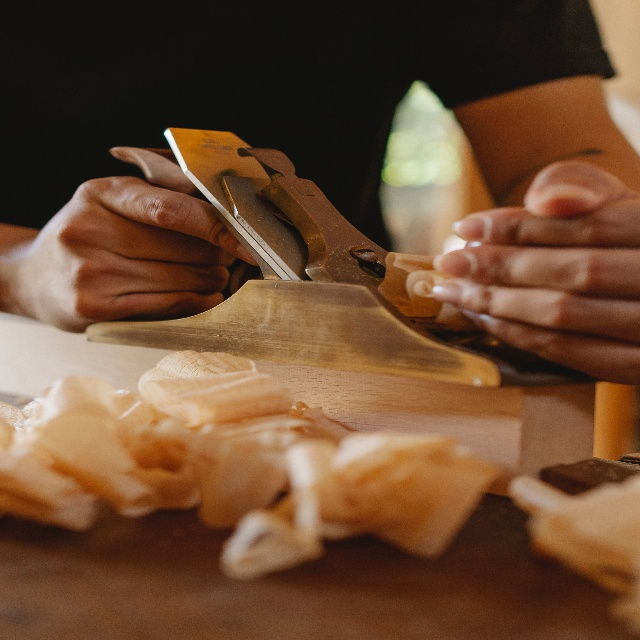Sin_guantes: (430, 158, 640, 385), (27, 174, 259, 332)
